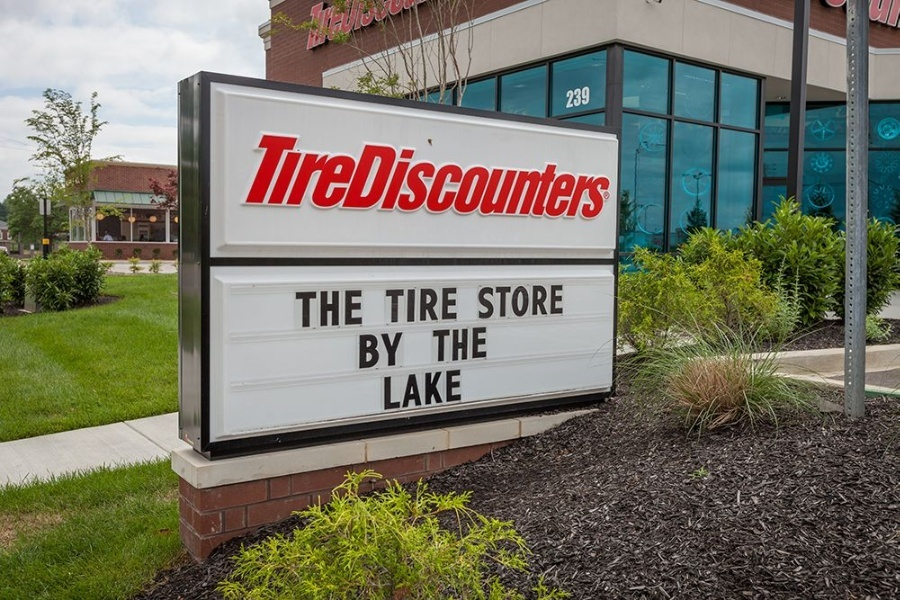text: (273, 133, 288, 220), (289, 133, 304, 220), (305, 133, 320, 220), (321, 133, 336, 220), (337, 133, 352, 220), (353, 133, 368, 220), (369, 133, 384, 220), (385, 133, 400, 220), (401, 133, 416, 220), (417, 133, 432, 220), (433, 133, 448, 220), (449, 133, 464, 220), (465, 133, 480, 220), (481, 133, 496, 220), (497, 133, 512, 220), (513, 133, 528, 220), (529, 133, 544, 220), (545, 133, 560, 220), (561, 133, 576, 220), (577, 133, 592, 220), (593, 133, 608, 220), (261, 133, 272, 220), (321, 1, 336, 54), (337, 1, 352, 54), (353, 1, 368, 54), (369, 1, 384, 54), (385, 1, 400, 54), (401, 1, 416, 54), (385, 368, 400, 413), (401, 368, 416, 413), (417, 368, 432, 413), (433, 368, 448, 413), (449, 368, 464, 413), (308, 1, 320, 54), (305, 289, 320, 329), (321, 289, 336, 329), (337, 289, 352, 329), (369, 331, 384, 369), (385, 331, 400, 369), (433, 325, 448, 363), (449, 325, 464, 363), (465, 325, 480, 363), (385, 287, 400, 324), (401, 287, 416, 324), (417, 287, 432, 324), (433, 287, 448, 324), (481, 284, 496, 320), (497, 284, 512, 320), (513, 284, 528, 320), (529, 284, 544, 320), (545, 284, 560, 320), (881, 2, 896, 32), (353, 289, 364, 329), (609, 133, 614, 220), (449, 287, 460, 324), (867, 2, 880, 32), (358, 331, 368, 369), (295, 289, 304, 329), (577, 85, 591, 110), (417, 1, 422, 54), (566, 85, 576, 110), (481, 325, 487, 363), (561, 284, 565, 320), (401, 331, 404, 369), (382, 368, 384, 413), (478, 284, 480, 320), (383, 287, 384, 324)
